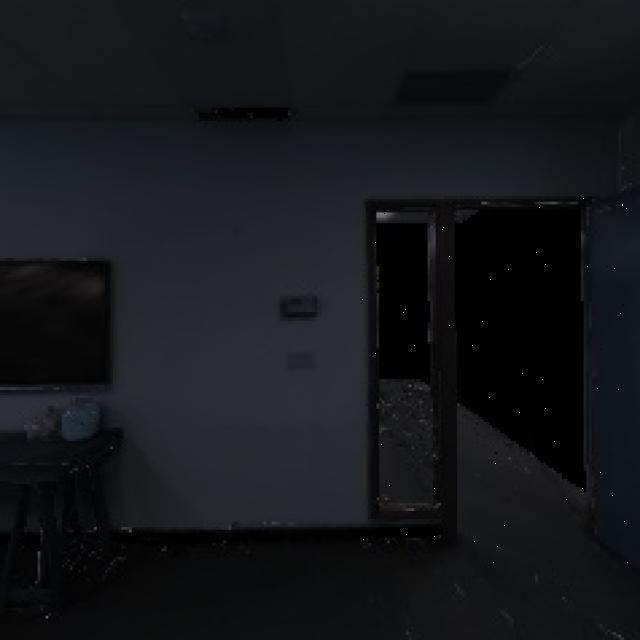door-frame: (361, 186, 629, 563)
